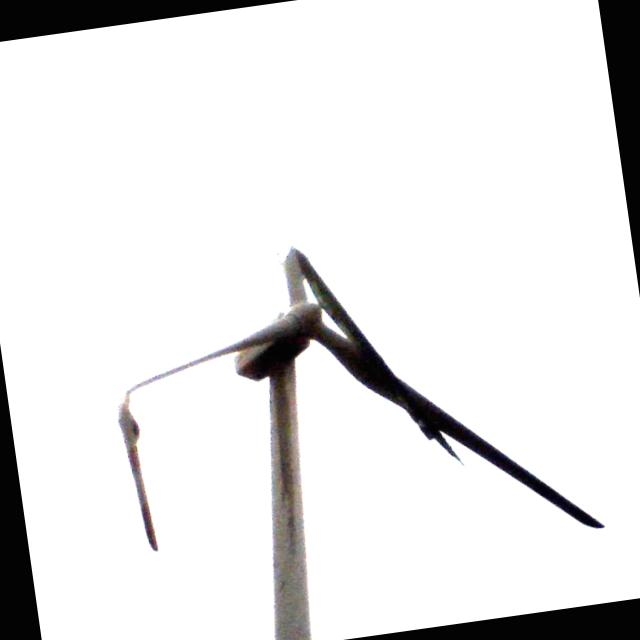crack: (94, 371, 192, 558)
